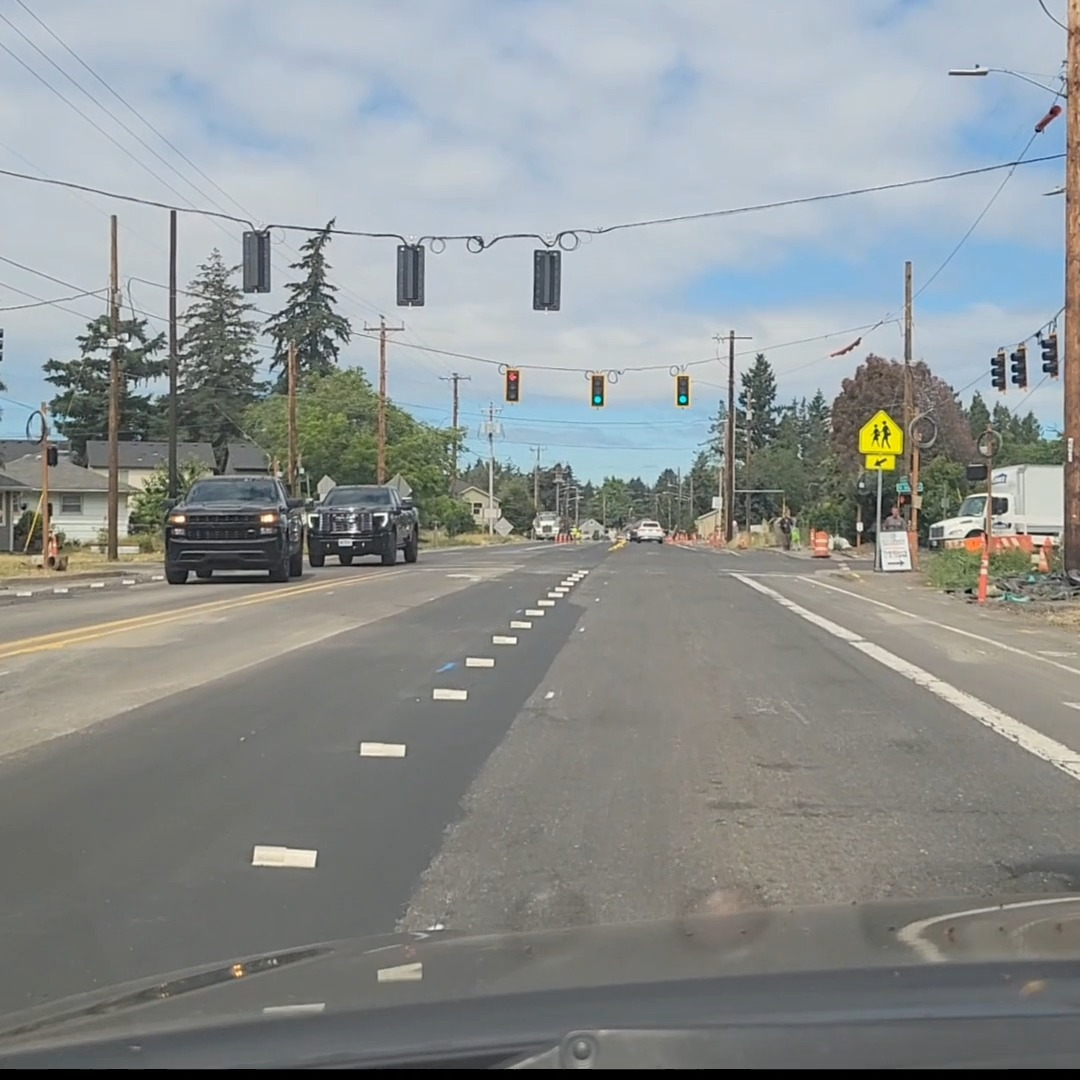car: (159, 475, 309, 583), (304, 484, 418, 567), (629, 520, 665, 543)
crosswalk-sign: (857, 409, 903, 457)
delineator: (977, 541, 989, 602), (1041, 536, 1054, 572)
